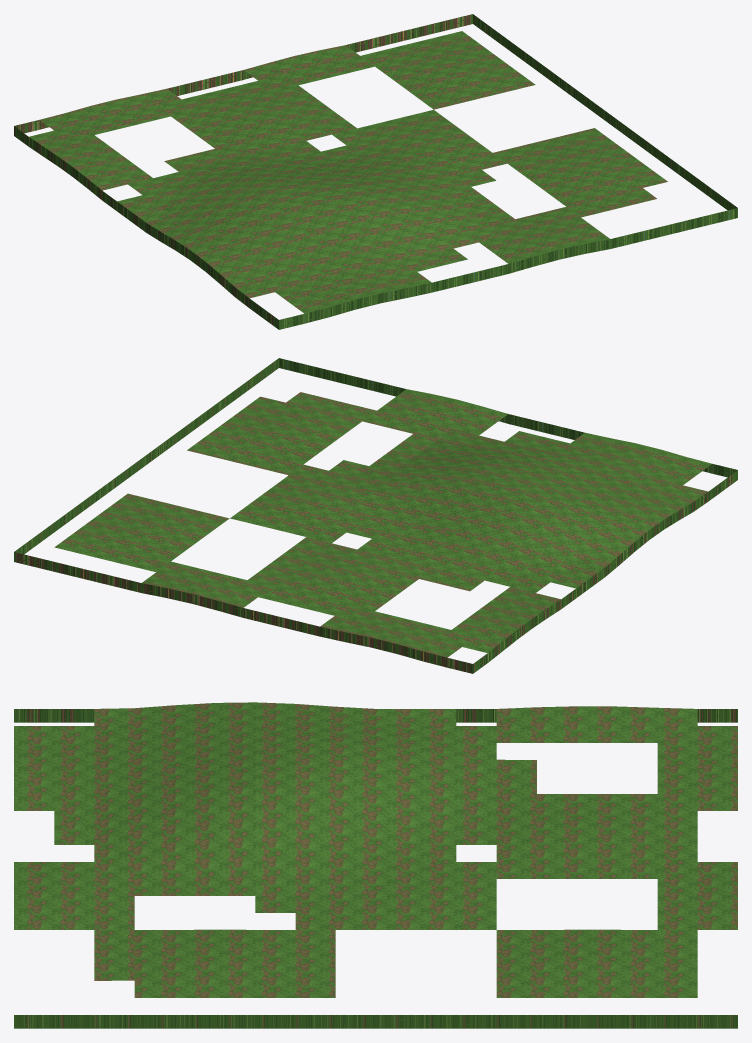
File: rv_terrain_10.gltf
3 renders of one model, top to bottom at view 1: azimuth 30°, elevation 25°; view 2: azimuth 150°, elevation 25°; view 3: azimuth 270°, elevation 25°, orthographic. The views are drawn at different scales.
Parts seen in each view (by area): view 1: RV_Terrain_10; view 2: RV_Terrain_10; view 3: RV_Terrain_10.
Boxes of the visible parts, x1,y1,x2,y2 form: RV_Terrain_10: (14,14,737,329); RV_Terrain_10: (14,358,737,673); RV_Terrain_10: (14,702,737,1028).
Size of the model in its own units: 72 by 4.03 by 72.
2 materials, 1 textured.
